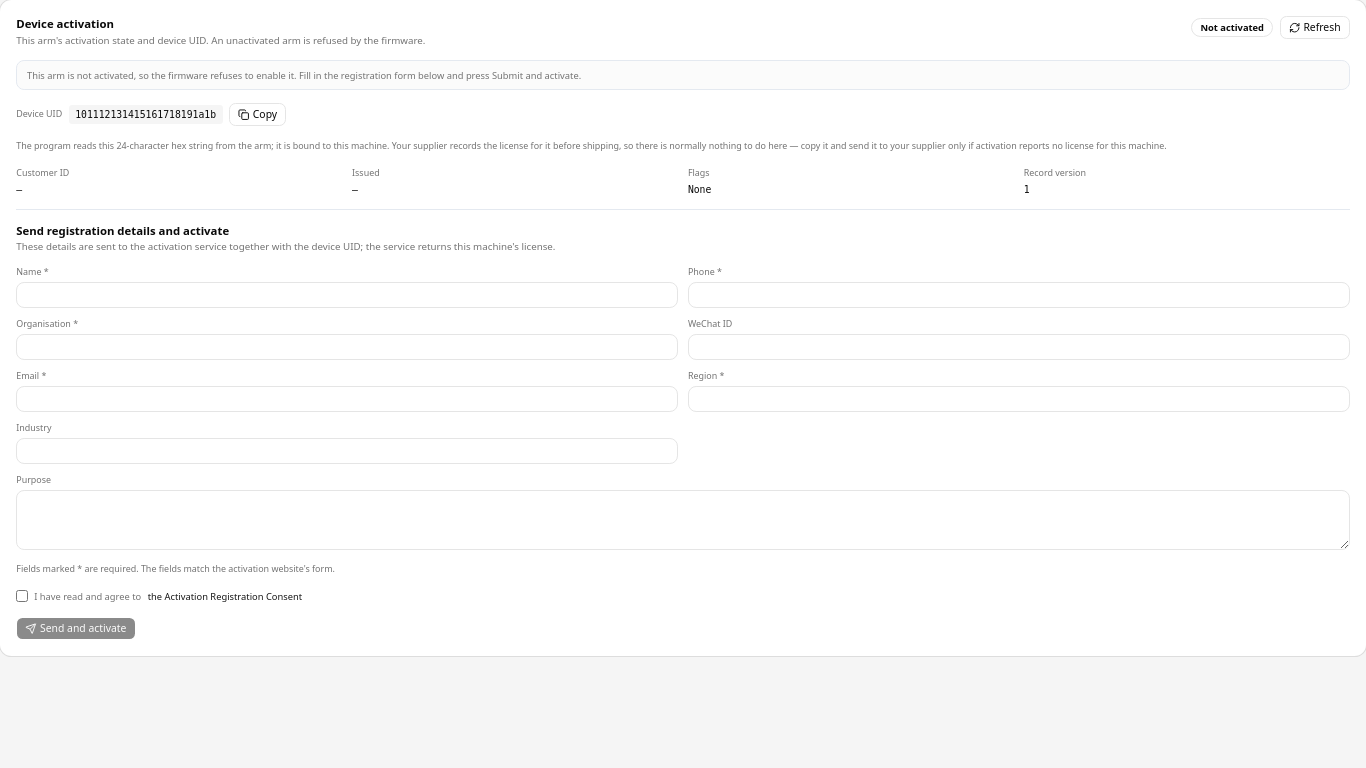
ActivationSection › keeps submit disabled until consent is ticked and every required field is filled
Check: the button with test id "activation-submit" is disabled, box [16, 617, 136, 640]
In the field with test id "activation-name": (347, 296) [16, 282, 678, 308], type "张三"
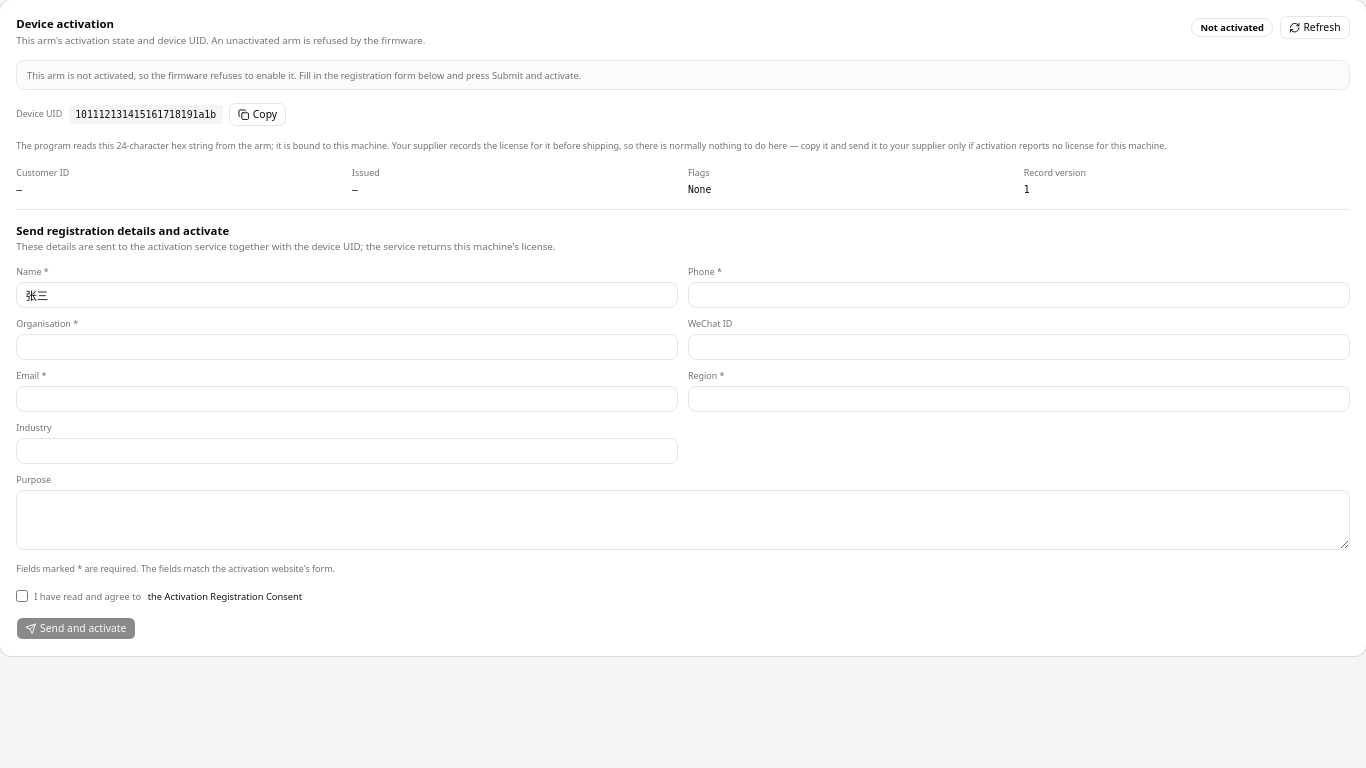
In the field with test id "activation-phone": (1019, 296) [688, 282, 1350, 308], type "13800000000"
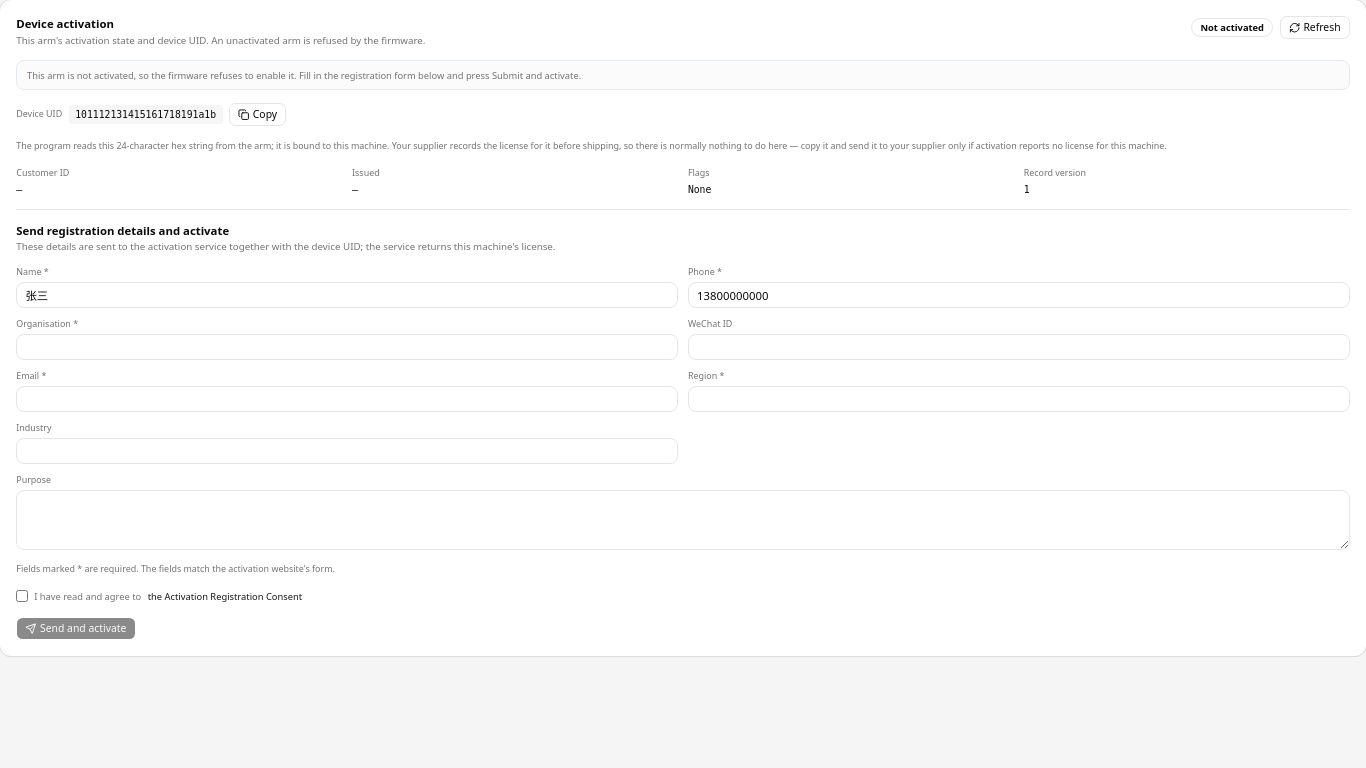
In the field with test id "activation-organization": (347, 347) [16, 334, 678, 360], type "某大学"
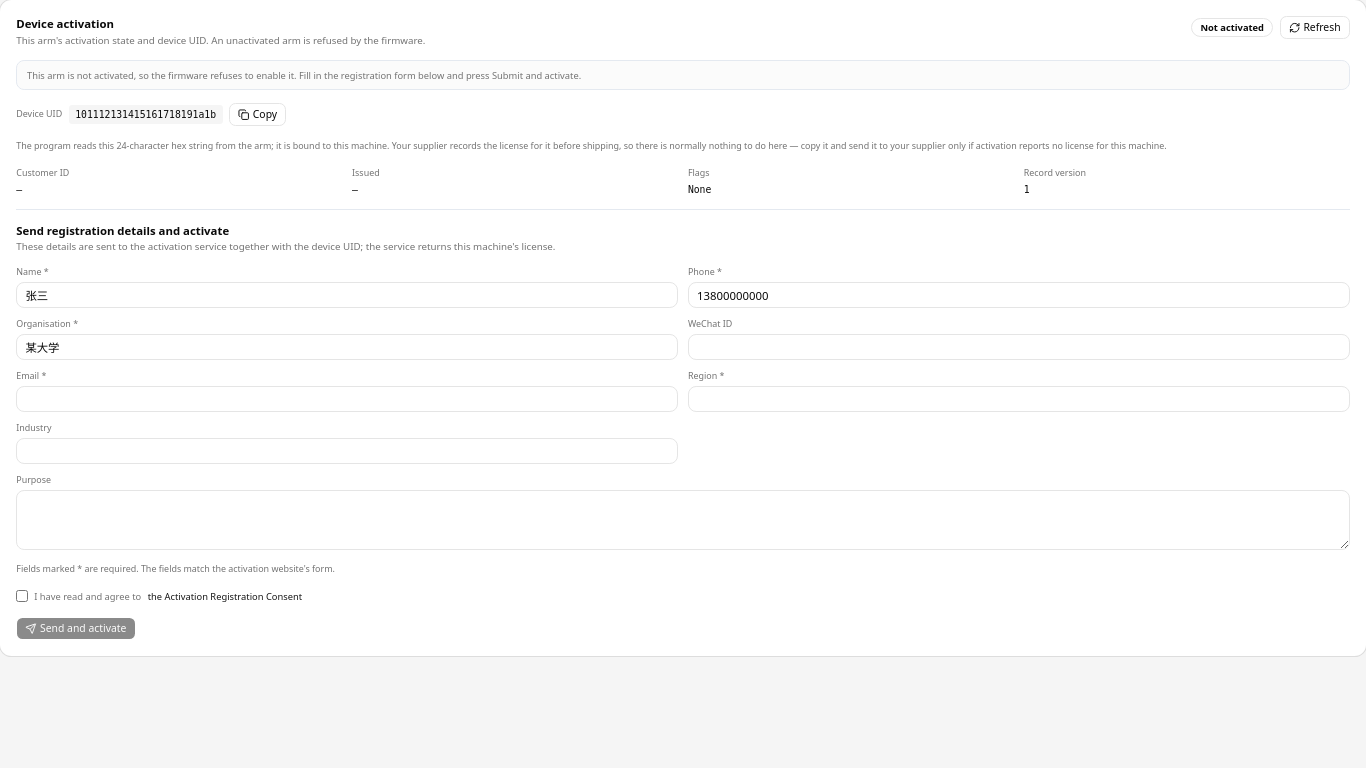
In the field with test id "activation-email": (347, 399) [16, 386, 678, 412], type "z@example.com"
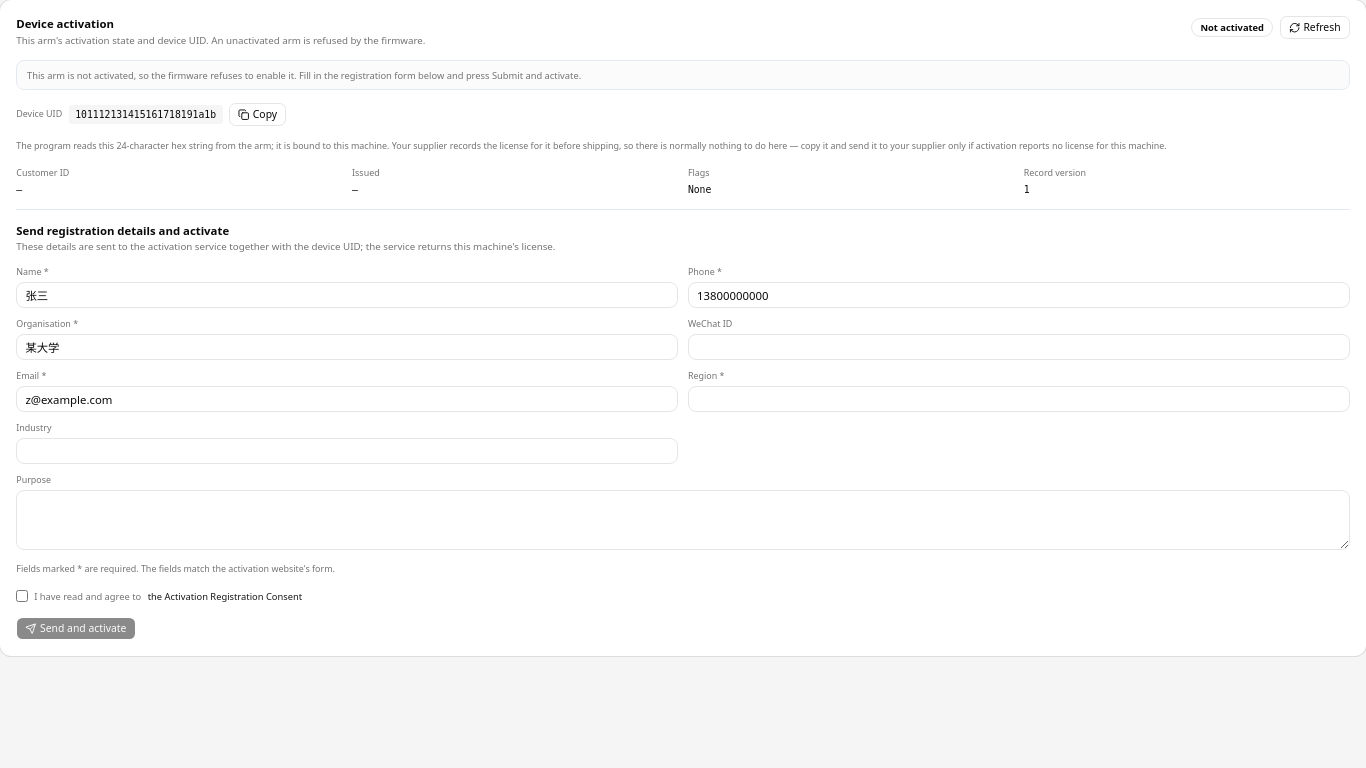
Check: the button with test id "activation-submit" is disabled, box [16, 617, 136, 640]
In the field with test id "activation-region": (1019, 399) [688, 386, 1350, 412], type "上海"
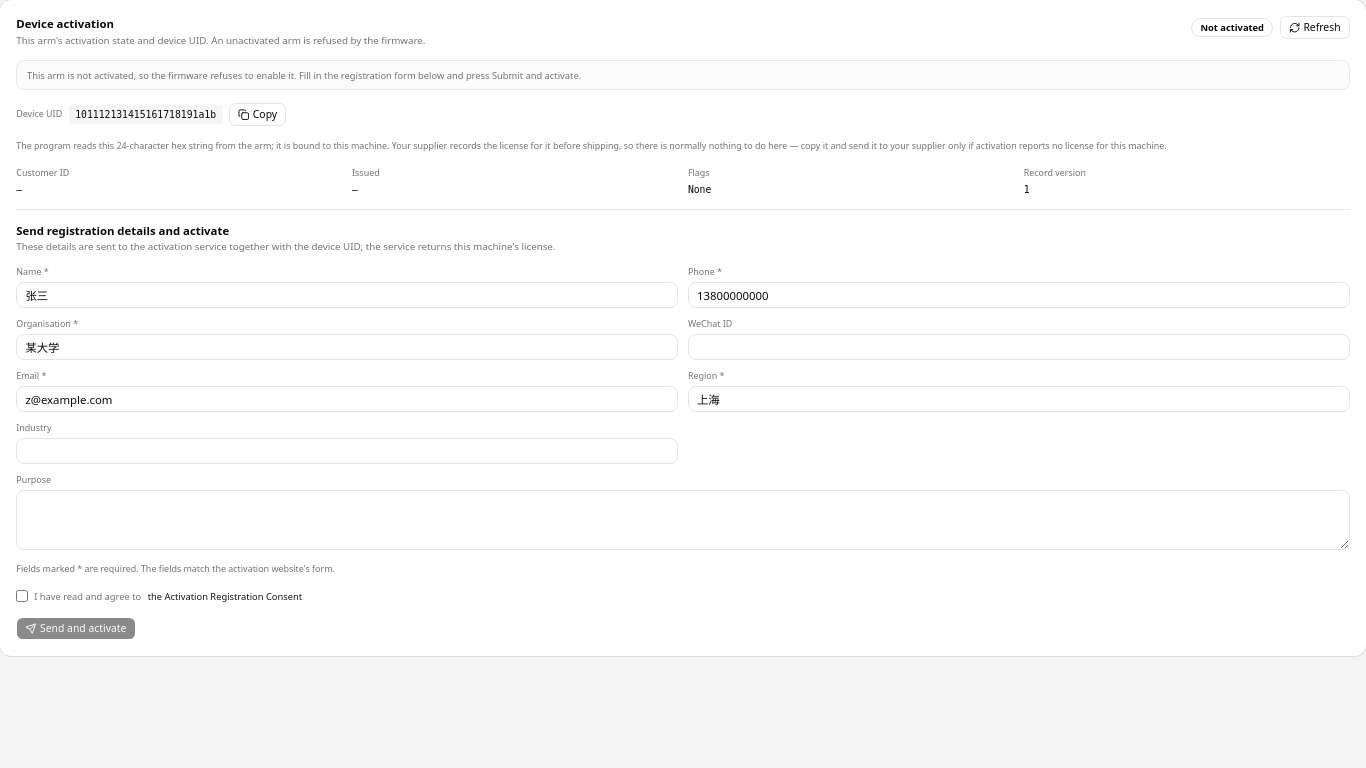
Check: the button with test id "activation-submit" is disabled, box [16, 617, 136, 640]
Click the checkbox with test id "activation-consent": click(22, 596) [16, 590, 28, 602]
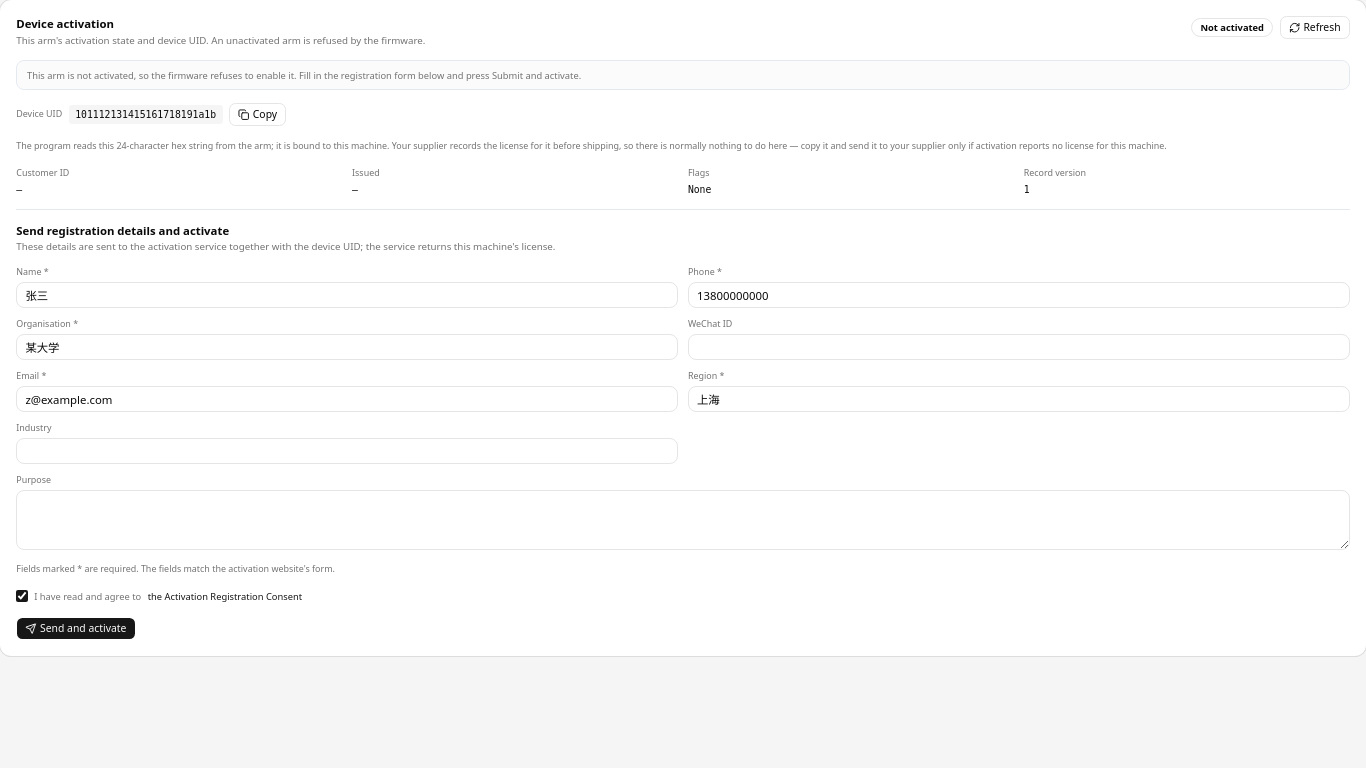
Check: the button with test id "activation-submit" is enabled, box [16, 617, 136, 640]
